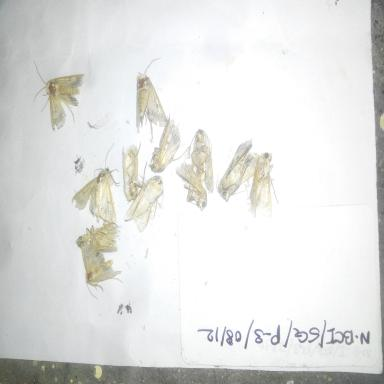abw: (28, 56, 90, 135), (69, 143, 128, 225), (129, 52, 171, 147), (76, 237, 127, 303), (242, 149, 282, 224), (144, 113, 184, 179), (216, 138, 256, 202), (122, 172, 166, 230), (185, 124, 216, 196), (174, 160, 211, 212), (116, 142, 145, 206), (68, 220, 120, 255)
